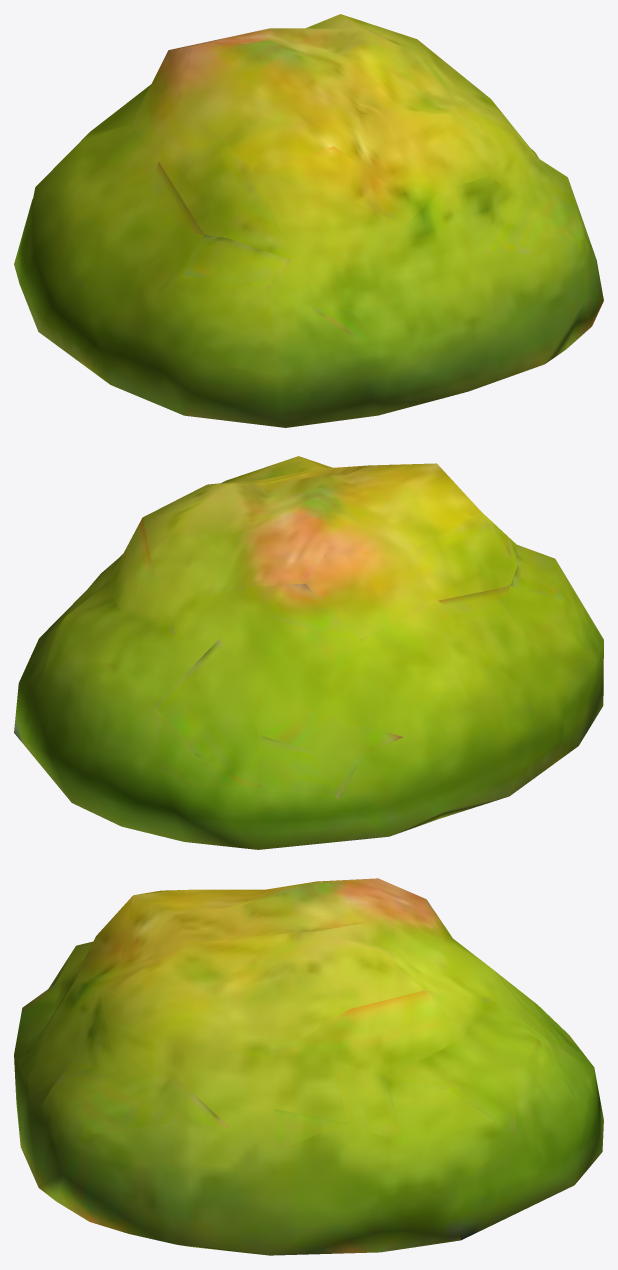
Rendered from bush.fbx.
3 renders of one model, top to bottom at view 1: azimuth 30°, elevation 25°; view 2: azimuth 150°, elevation 25°; view 3: azimuth 270°, elevation 25°, orthographic. The views are drawn at different scales.
Parts seen in each view (by area): view 1: bush; view 2: bush; view 3: bush.
Boxes of the visible parts, x1,y1,x2,y2 form: bush: (14, 14, 603, 427); bush: (14, 456, 603, 849); bush: (14, 878, 603, 1255).
Bounding box in the file's own units: 130 × 62.82 × 138.
